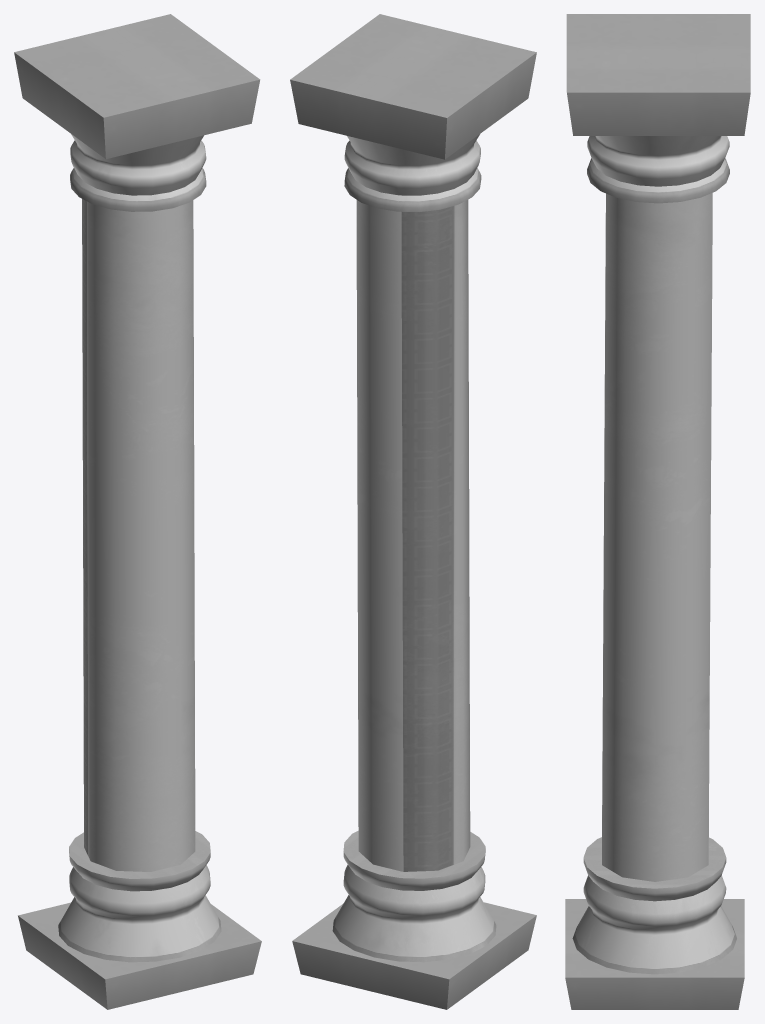
File: columnA.fbx
3 views of the same model, side by side, from view 1: azimuth 30°, elevation 25°; view 2: azimuth 150°, elevation 25°; view 3: azimuth 270°, elevation 25° (orthographic). The views are drawn at different scales.
Parts seen in each view (by area): view 1: ColumnB; view 2: ColumnB; view 3: ColumnB.
Boxes of the visible parts, <box> form: ColumnB: <box>14,14,261,1009</box>; ColumnB: <box>290,14,536,1009</box>; ColumnB: <box>565,14,750,1009</box>.
Bounding box in the file's own units: 137 × 742 × 136.
